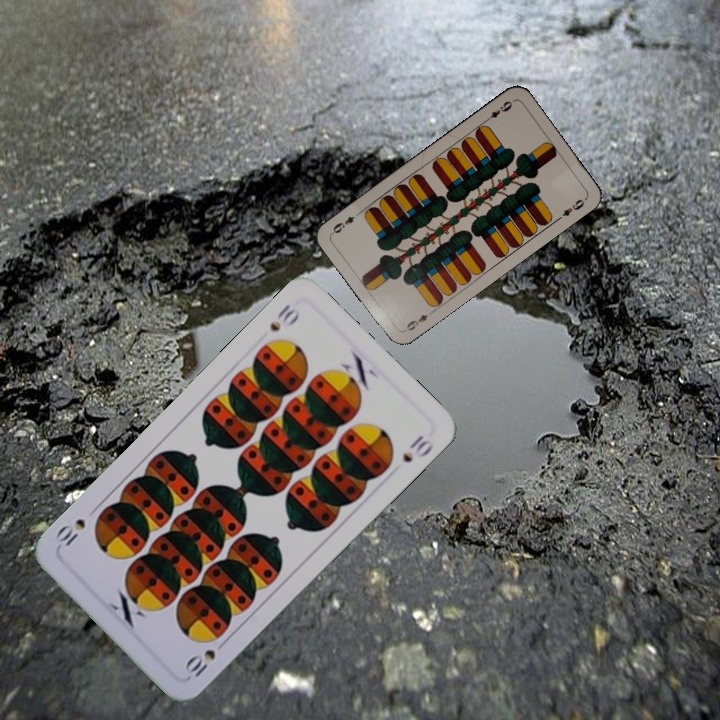E9: (481, 96, 516, 125), (400, 307, 436, 334)
S10: (181, 635, 230, 681), (265, 299, 302, 334)
